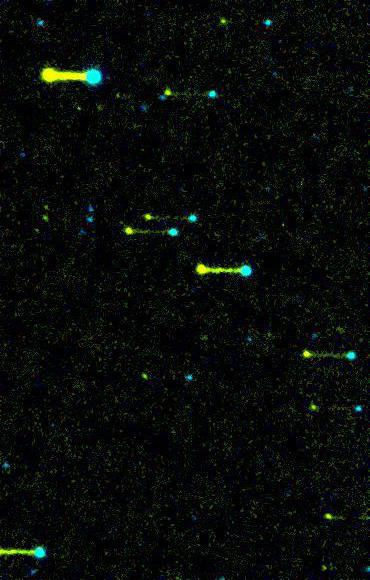star: (329, 321, 359, 351)
